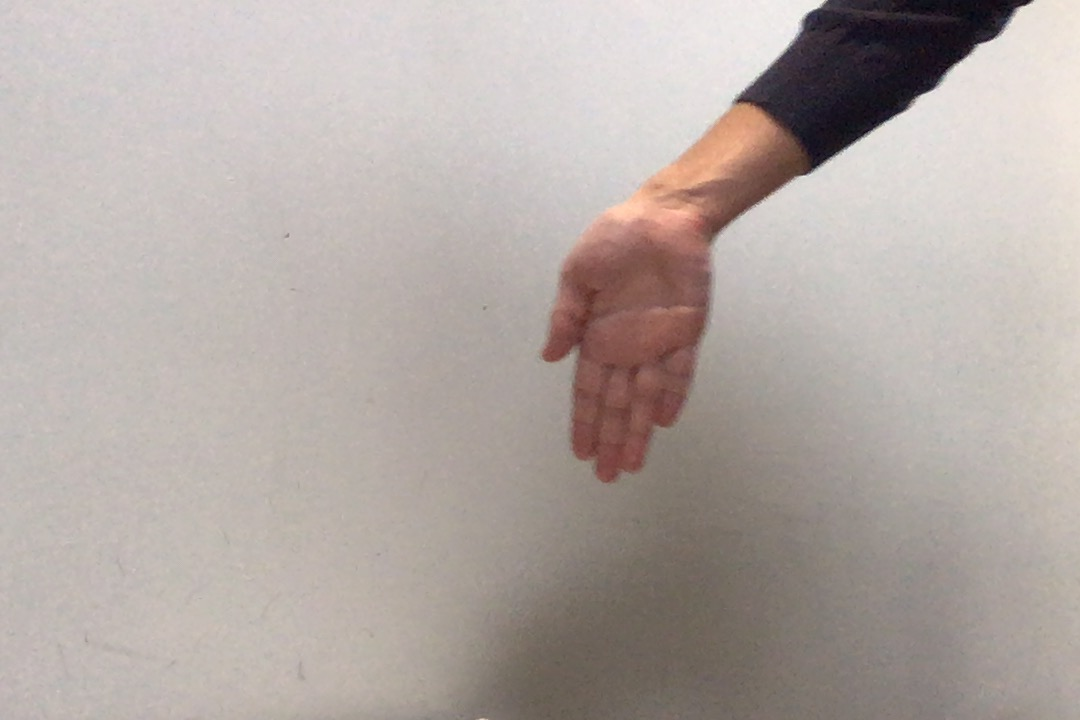palmhand: (540, 201, 715, 489)
